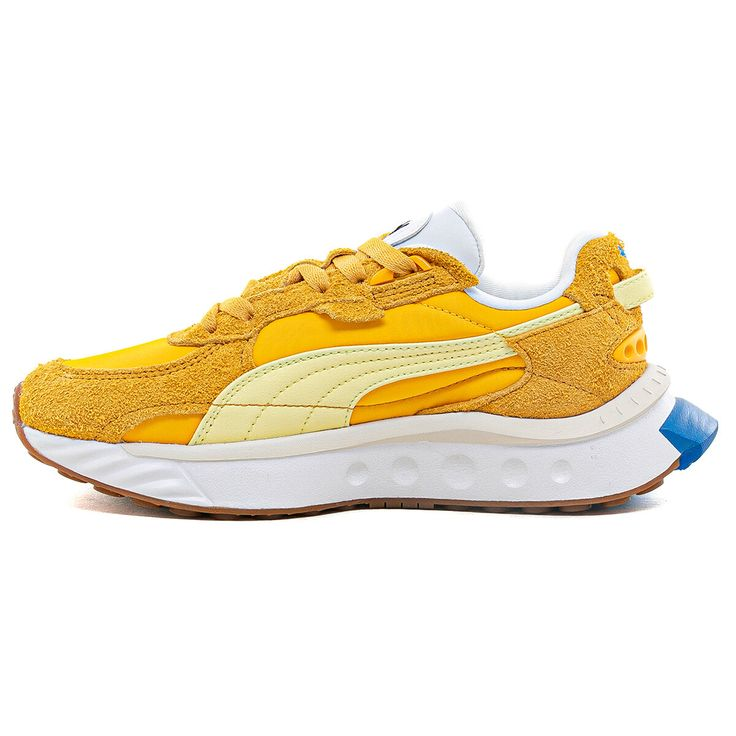gamuza: (19, 232, 656, 444)
